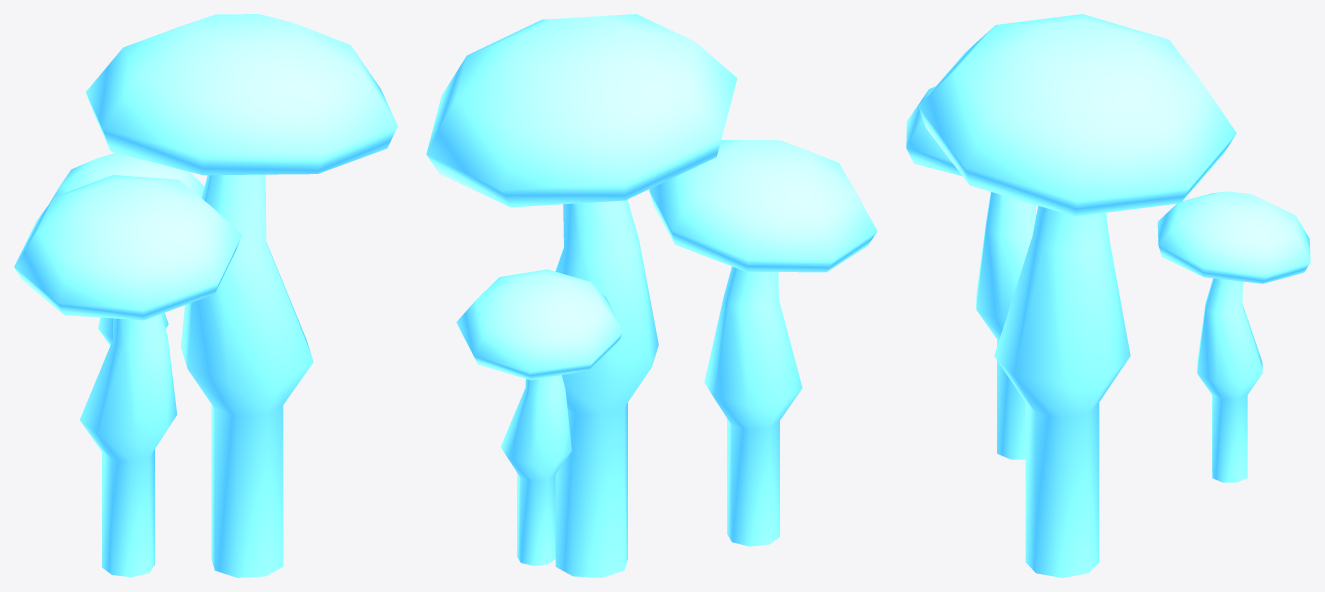
The model's file is MushroomMulti.glb.
The picture shows the model from 3 angles, left to right: view 1: azimuth 30°, elevation 25°; view 2: azimuth 150°, elevation 25°; view 3: azimuth 270°, elevation 25°; orthographic projection.
Visible parts, largest first — view 1: MushroomMulti; view 2: MushroomMulti; view 3: MushroomMulti.
Part boxes in pixels (<box>): MushroomMulti: <box>14,14,397,577</box>; MushroomMulti: <box>426,14,877,577</box>; MushroomMulti: <box>906,14,1310,577</box>.
Bounding box in the file's own units: 5.85 × 7.83 × 5.47.
